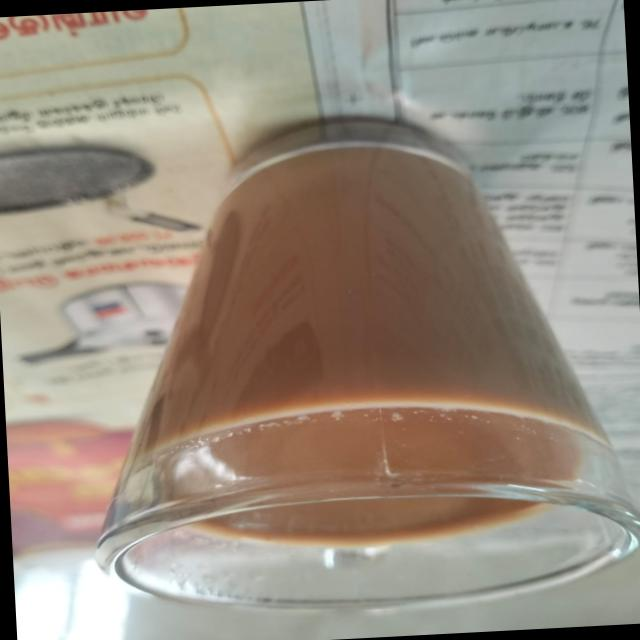glass-VX4N: (69, 100, 640, 625)
